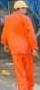hard-hat: (0, 8, 8, 20)
ppe-suit: (0, 21, 20, 88)
